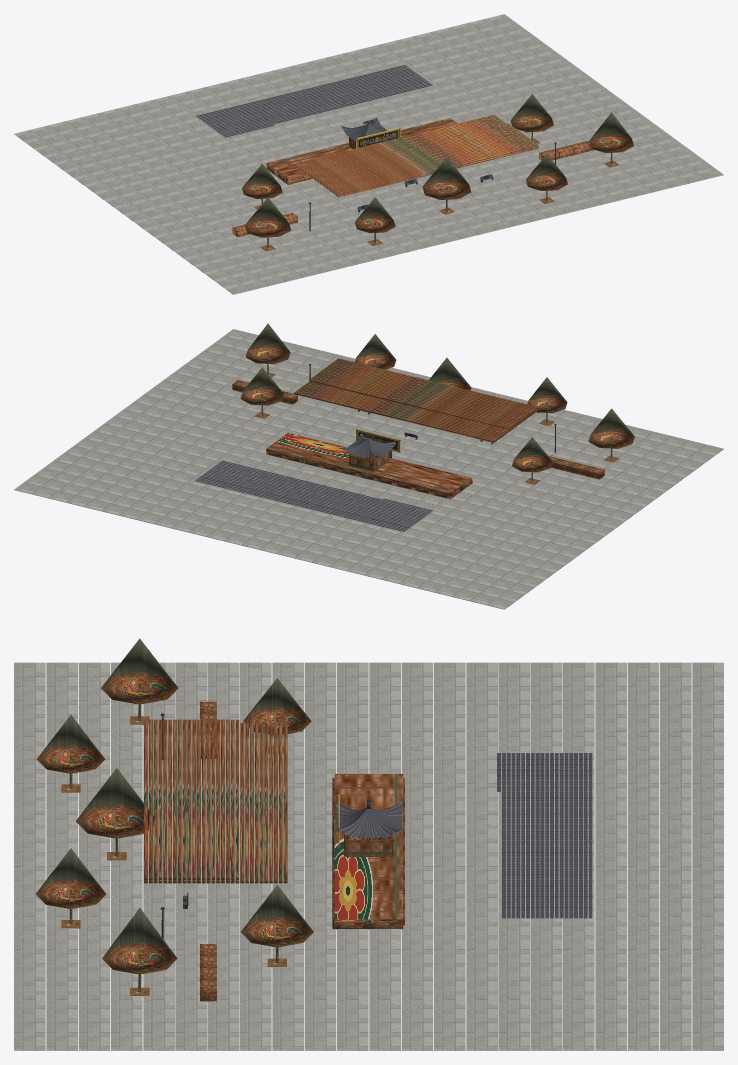
3 renders of one model, top to bottom at view 1: azimuth 30°, elevation 25°; view 2: azimuth 150°, elevation 25°; view 3: azimuth 270°, elevation 25°, orthographic. The views are drawn at different scales.
Parts seen in each view (by area): view 1: 11140_02_04621_028_01__plinth_ground_base, 11140_02_04621_028_02__mass_body_facade, 11140_02_04621_028_06__landscape_greenery, 11140_02_04621_028_03__roof_deck_structure; view 2: 11140_02_04621_028_01__plinth_ground_base, 11140_02_04621_028_02__mass_body_facade, 11140_02_04621_028_06__landscape_greenery, 11140_02_04621_028_03__roof_deck_structure; view 3: 11140_02_04621_028_01__plinth_ground_base, 11140_02_04621_028_02__mass_body_facade, 11140_02_04621_028_06__landscape_greenery, 11140_02_04621_028_03__roof_deck_structure.
Part boxes in pixels (x1,y1,x2,y2): 11140_02_04621_028_01__plinth_ground_base: [14, 14, 723, 294]; 11140_02_04621_028_02__mass_body_facade: [266, 114, 538, 197]; 11140_02_04621_028_06__landscape_greenery: [232, 94, 633, 251]; 11140_02_04621_028_03__roof_deck_structure: [196, 65, 432, 143]; 11140_02_04621_028_01__plinth_ground_base: [14, 329, 723, 609]; 11140_02_04621_028_02__mass_body_facade: [266, 358, 538, 499]; 11140_02_04621_028_06__landscape_greenery: [232, 323, 634, 484]; 11140_02_04621_028_03__roof_deck_structure: [195, 433, 433, 531]; 11140_02_04621_028_01__plinth_ground_base: [14, 662, 723, 1050]; 11140_02_04621_028_02__mass_body_facade: [144, 719, 404, 929]; 11140_02_04621_028_06__landscape_greenery: [36, 638, 313, 1001]; 11140_02_04621_028_03__roof_deck_structure: [335, 753, 592, 918].
Size of the model in its own units: 79.95 by 8.6 by 61.95.
Materials: 7 (7 with a texture image).
